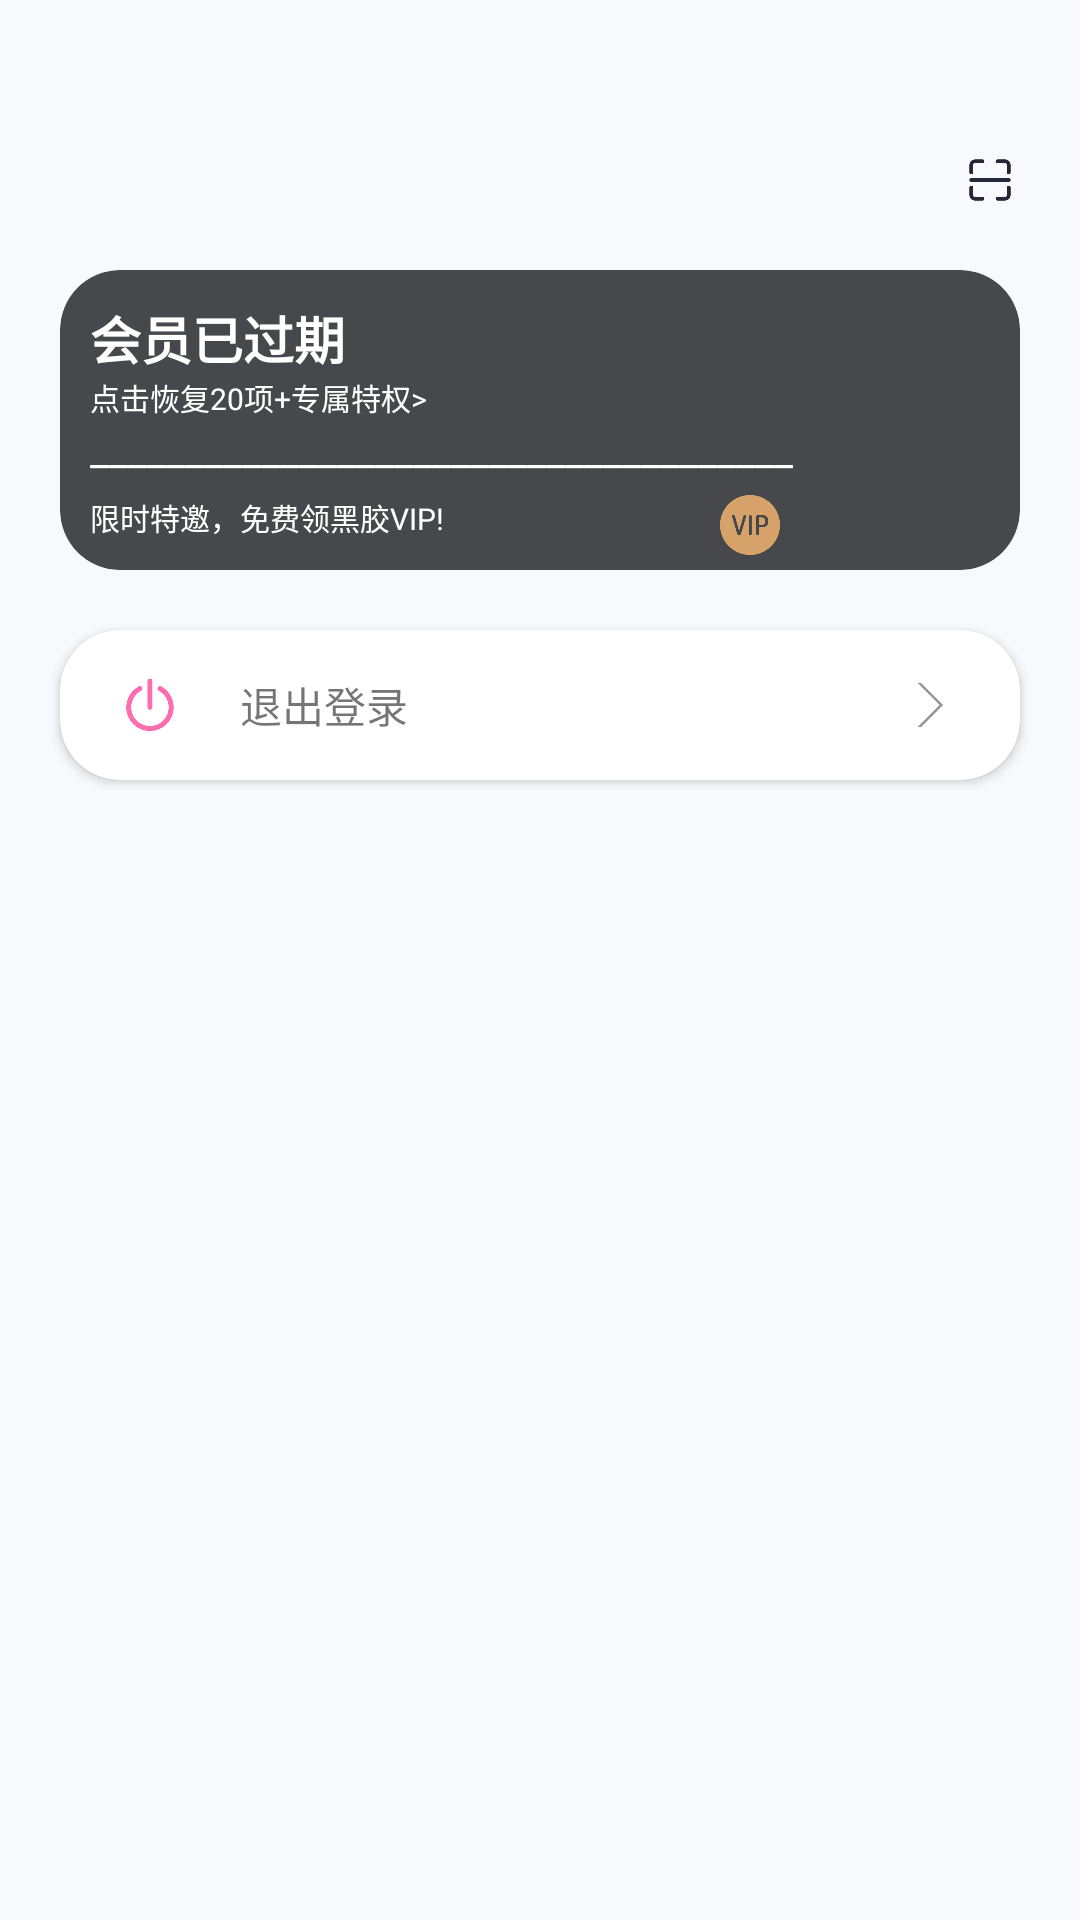

Named icons in this screenshot (1080*1920) and their centers, point (x, y):
right: point (930, 705)
scan: point (990, 180)
